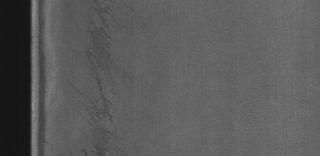water spot: (80, 2, 132, 156)
